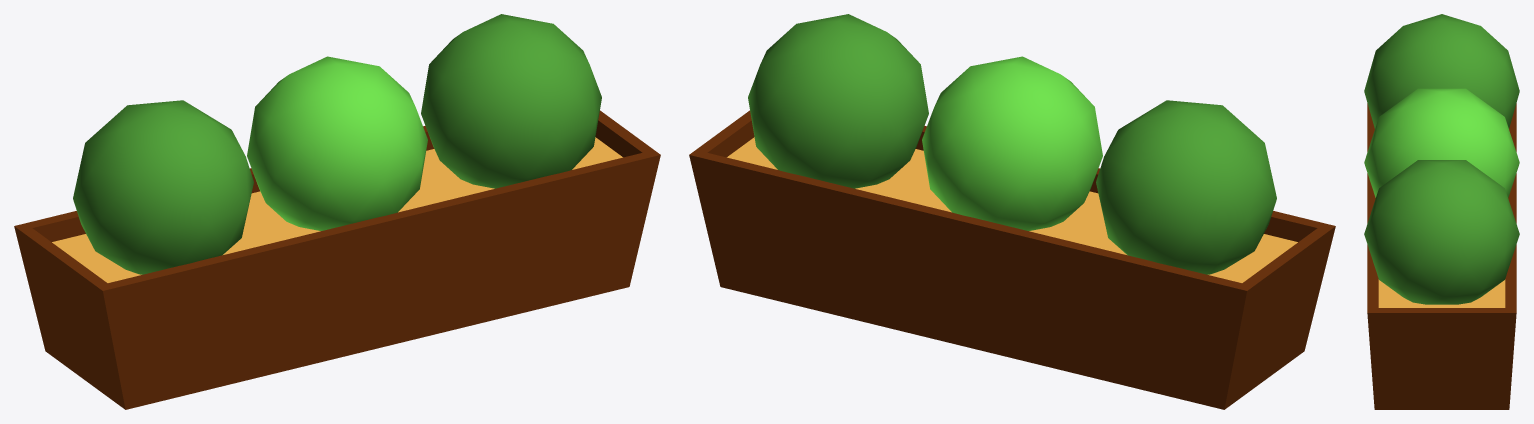
File: Prop_Plant_01.fbx
The picture shows the model from 3 angles, left to right: view 1: azimuth 30°, elevation 25°; view 2: azimuth 150°, elevation 25°; view 3: azimuth 270°, elevation 25°; orthographic projection. The views are drawn at different scales.
Parts seen in each view (by area): view 1: Prop_Plant_01; view 2: Prop_Plant_01; view 3: Prop_Plant_01.
Part boxes in pixels (x1,y1,x2,y2): Prop_Plant_01: (14, 14, 660, 409); Prop_Plant_01: (689, 14, 1335, 409); Prop_Plant_01: (1364, 14, 1519, 409).
Bounding box in the file's own units: 251 × 110 × 72.28.
